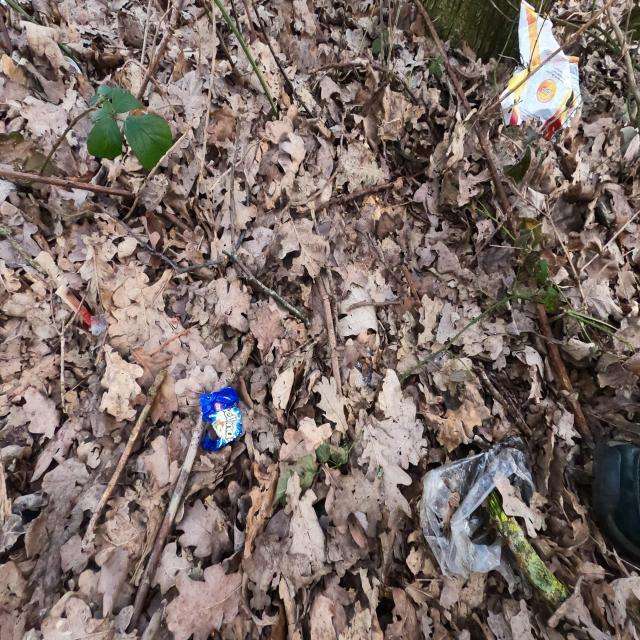Plastic: (497, 0, 581, 146), (198, 384, 243, 452), (54, 282, 91, 328), (90, 313, 108, 336)
